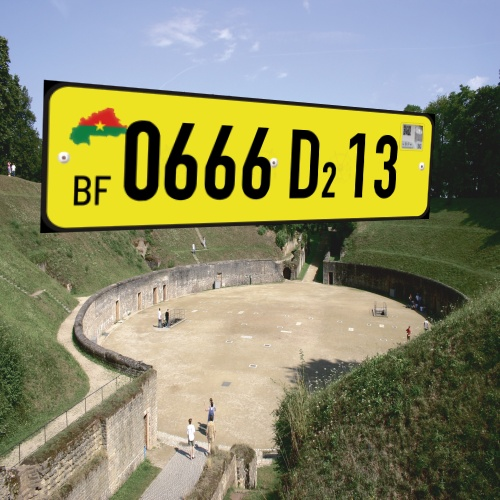plate: (24, 65, 453, 246)
